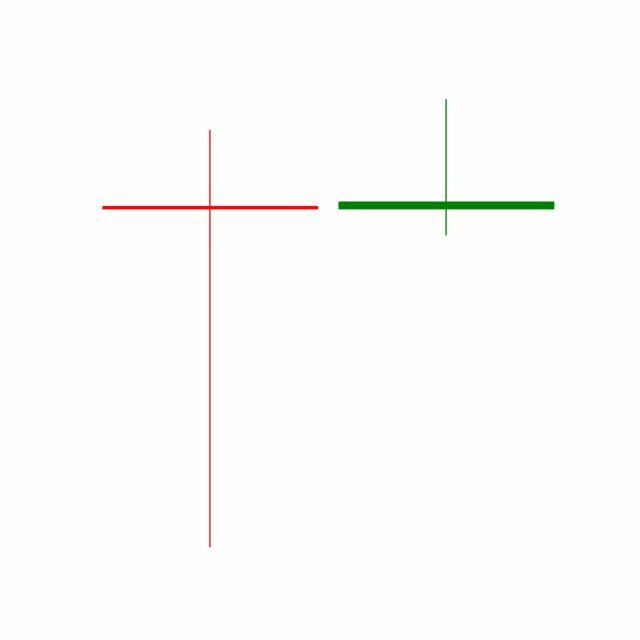Gravestone Doji: (328, 98, 566, 239)
